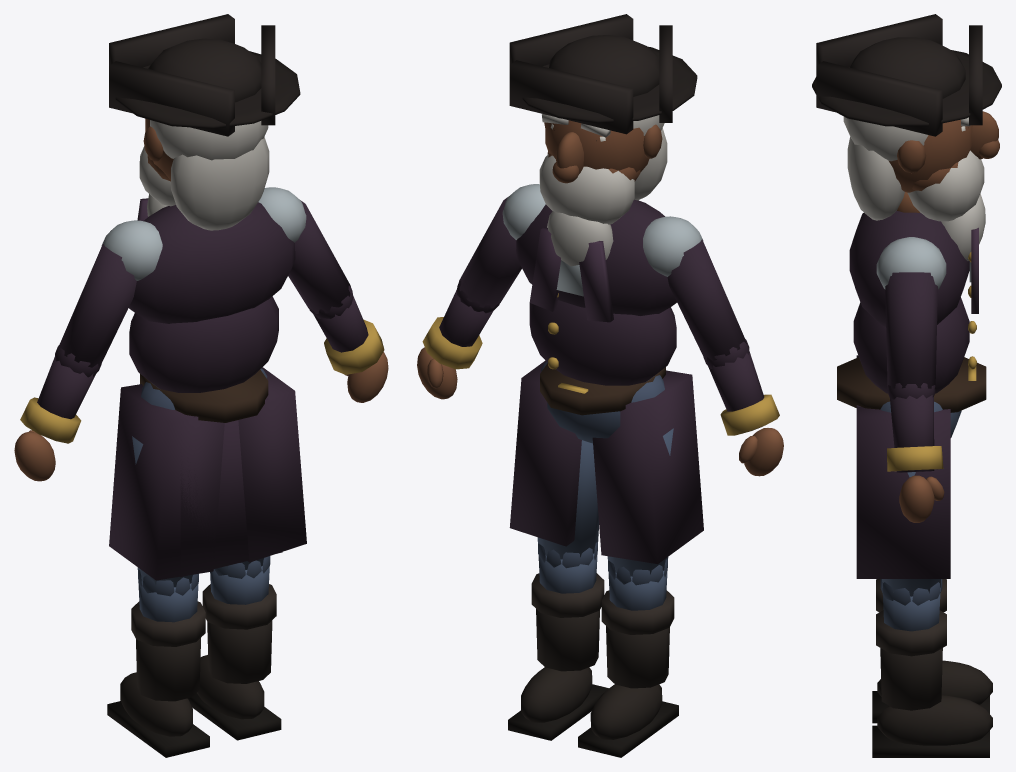
The model's file is capitao_2.glb.
3 views of the same model, side by side, from view 1: azimuth 30°, elevation 25°; view 2: azimuth 150°, elevation 25°; view 3: azimuth 270°, elevation 25° (orthographic).
Parts seen in each view (by area): view 1: Hips, Head, Chest, Spine, RightLowerLeg, LeftLowerLeg, RightUpperArm, RightFoot, RightForeArm, LeftFoot, LeftUpperArm, LeftForeArm (+2 smaller); view 2: Hips, Head, Chest, Spine, RightLowerLeg, LeftLowerLeg, RightUpperArm, RightFoot, LeftFoot, RightForeArm, LeftUpperArm, LeftForeArm (+4 smaller); view 3: Head, Hips, Chest, LeftLowerLeg, LeftFoot, LeftUpperArm, Spine, LeftForeArm, RightFoot, LeftHand, LeftUpperLeg, RightLowerLeg.
Part boxes in pixels (bbox=[...]): Hips: bbox=[109, 367, 306, 580]; Head: bbox=[109, 14, 300, 230]; Chest: bbox=[101, 187, 306, 323]; Spine: bbox=[129, 296, 278, 392]; RightLowerLeg: bbox=[131, 569, 205, 701]; LeftLowerLeg: bbox=[202, 556, 276, 683]; RightUpperArm: bbox=[57, 243, 136, 368]; RightFoot: bbox=[107, 672, 209, 757]; RightForeArm: bbox=[20, 345, 101, 443]; LeftFoot: bbox=[187, 655, 281, 740]; LeftUpperArm: bbox=[288, 200, 350, 313]; LeftForeArm: bbox=[309, 286, 384, 374]; Hips: bbox=[509, 360, 703, 564]; Head: bbox=[509, 14, 697, 266]; Chest: bbox=[502, 184, 703, 322]; Spine: bbox=[529, 300, 676, 385]; RightLowerLeg: bbox=[601, 559, 674, 688]; LeftLowerLeg: bbox=[531, 542, 604, 671]; RightUpperArm: bbox=[667, 239, 746, 362]; RightFoot: bbox=[578, 684, 678, 757]; LeftFoot: bbox=[508, 667, 608, 740]; RightForeArm: bbox=[703, 339, 779, 435]; LeftUpperArm: bbox=[459, 197, 521, 308]; LeftForeArm: bbox=[422, 280, 500, 369]; Head: bbox=[812, 14, 1001, 260]; Hips: bbox=[837, 355, 986, 578]; Chest: bbox=[849, 211, 978, 326]; LeftLowerLeg: bbox=[876, 579, 946, 710]; LeftFoot: bbox=[872, 695, 992, 757]; LeftUpperArm: bbox=[885, 272, 937, 389]; Spine: bbox=[853, 297, 976, 393]; LeftForeArm: bbox=[887, 383, 943, 472]; RightFoot: bbox=[872, 660, 992, 723]; LeftHand: bbox=[899, 475, 944, 522]; LeftUpperLeg: bbox=[882, 472, 940, 596]; RightLowerLeg: bbox=[876, 579, 946, 612].
Bounding box in the file's own units: 1.09 × 1.92 × 0.4839.
